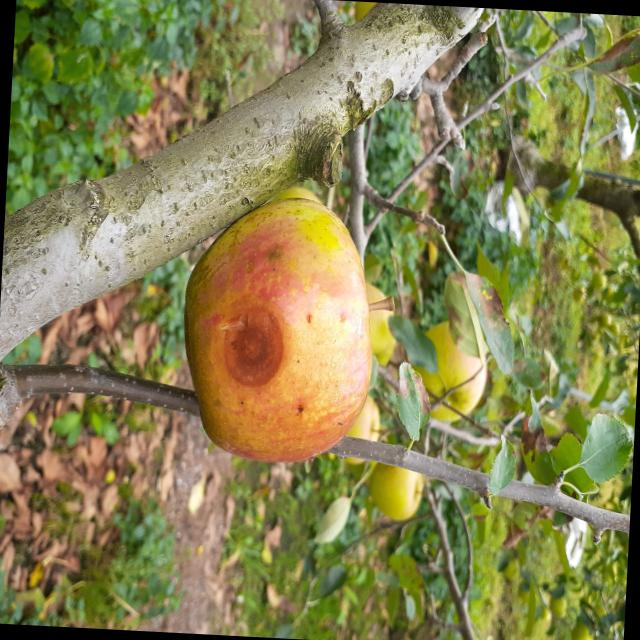rotten: (175, 182, 383, 474)
